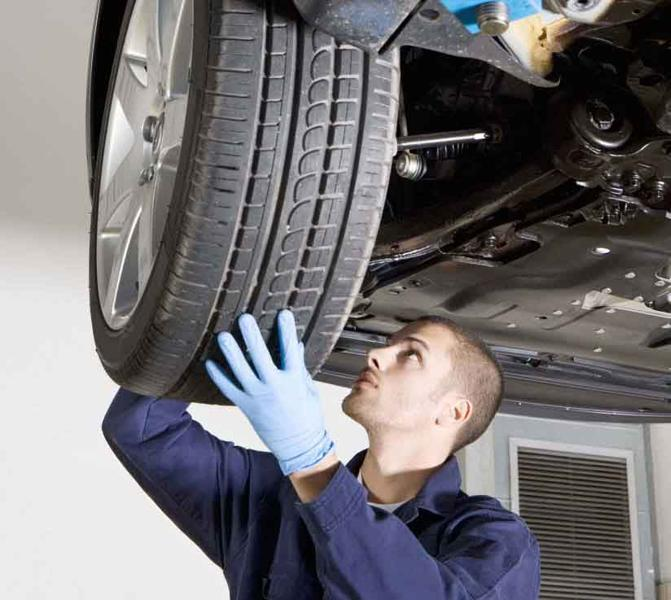person: (103, 304, 547, 600)
